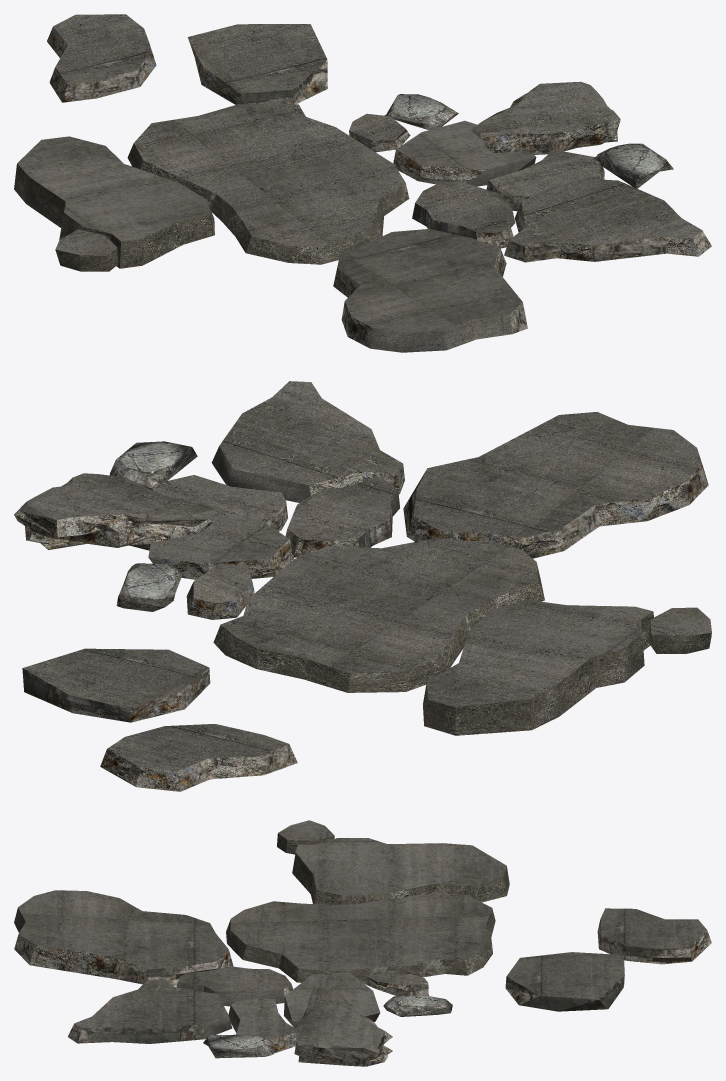
Rendered from Prop_Sst1.glb.
3 renders of one model, top to bottom at view 1: azimuth 30°, elevation 25°; view 2: azimuth 150°, elevation 25°; view 3: azimuth 270°, elevation 25°, orthographic. The views are drawn at different scales.
Visible parts, largest first — view 1: xiutz_sst1_0; view 2: xiutz_sst1_0; view 3: xiutz_sst1_0.
Boxes of the visible parts, bbox=[...] form: xiutz_sst1_0: bbox=[14, 14, 711, 352]; xiutz_sst1_0: bbox=[14, 381, 711, 791]; xiutz_sst1_0: bbox=[14, 820, 711, 1066].
Size of the model in its own units: 2.12 by 0.1512 by 2.72.
2 materials, 2 textured.
